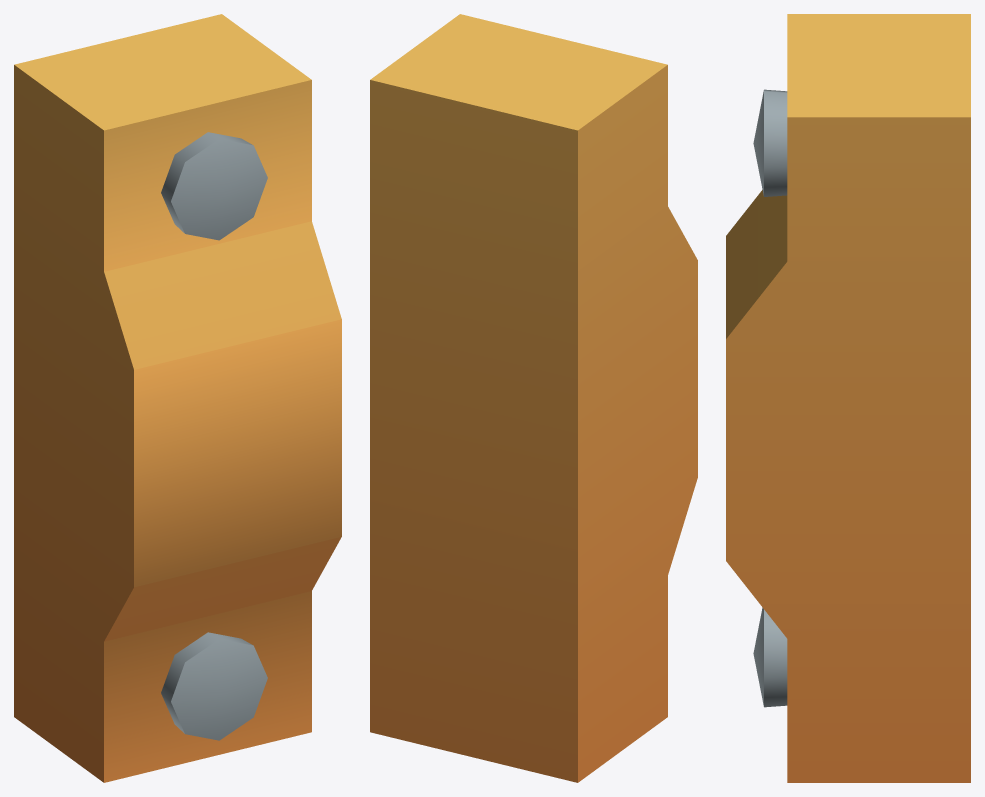
File: bracing_small_yellow.glb
3 renders of one model, left to right at view 1: azimuth 30°, elevation 25°; view 2: azimuth 150°, elevation 25°; view 3: azimuth 270°, elevation 25°, orthographic. The views are drawn at different scales.
Visible parts, largest first — view 1: bracing_small_yellow; view 2: bracing_small_yellow; view 3: bracing_small_yellow.
Boxes of the visible parts, x1,y1,x2,y2 form: bracing_small_yellow: (14, 14, 341, 782); bracing_small_yellow: (370, 14, 697, 782); bracing_small_yellow: (726, 14, 970, 782).
Bounding box in the file's own units: 0.2 × 0.6 × 0.2.
1 material, 1 textured.
